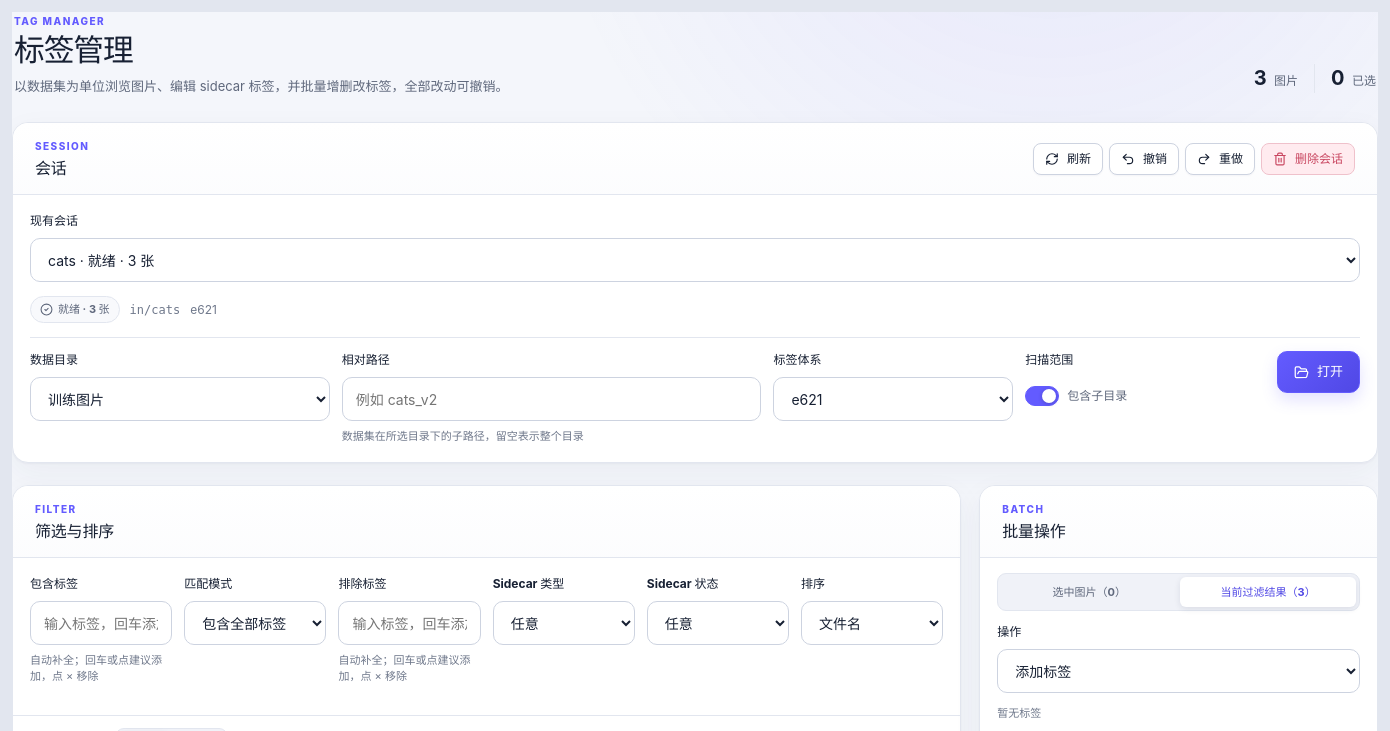
Test case: TagManager page › adds a filter chip from the include autocomplete and queries include_tags
This screenshot has width=1390, height=731.
Type "long" into the dropdown named "包含标签". click: (101, 623)
box: [30,601,172,645]
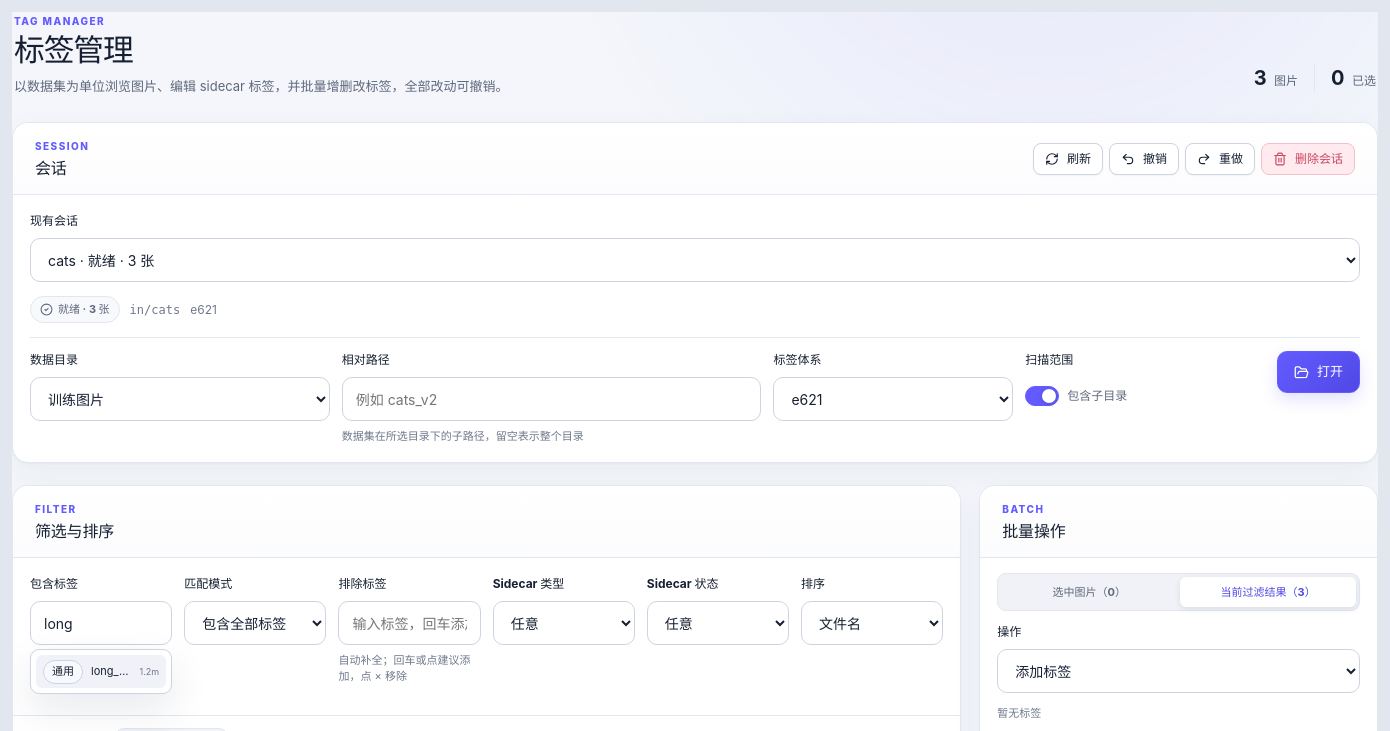
Press the mouse on the button "通用 long_hair 1.2m" at (101, 672), box [36,655,166,688]
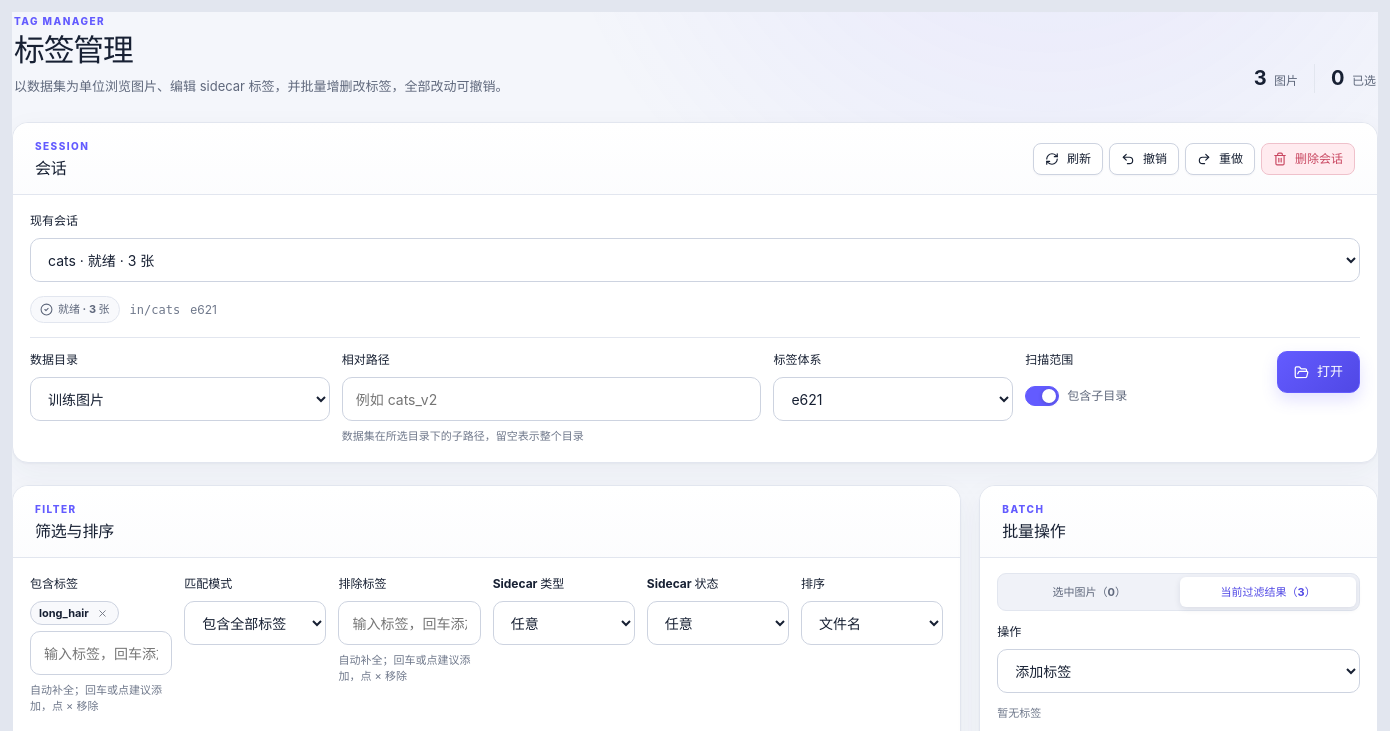
Result: the button named "移除筛选 long_hair" is shown at [95,607,110,620]
